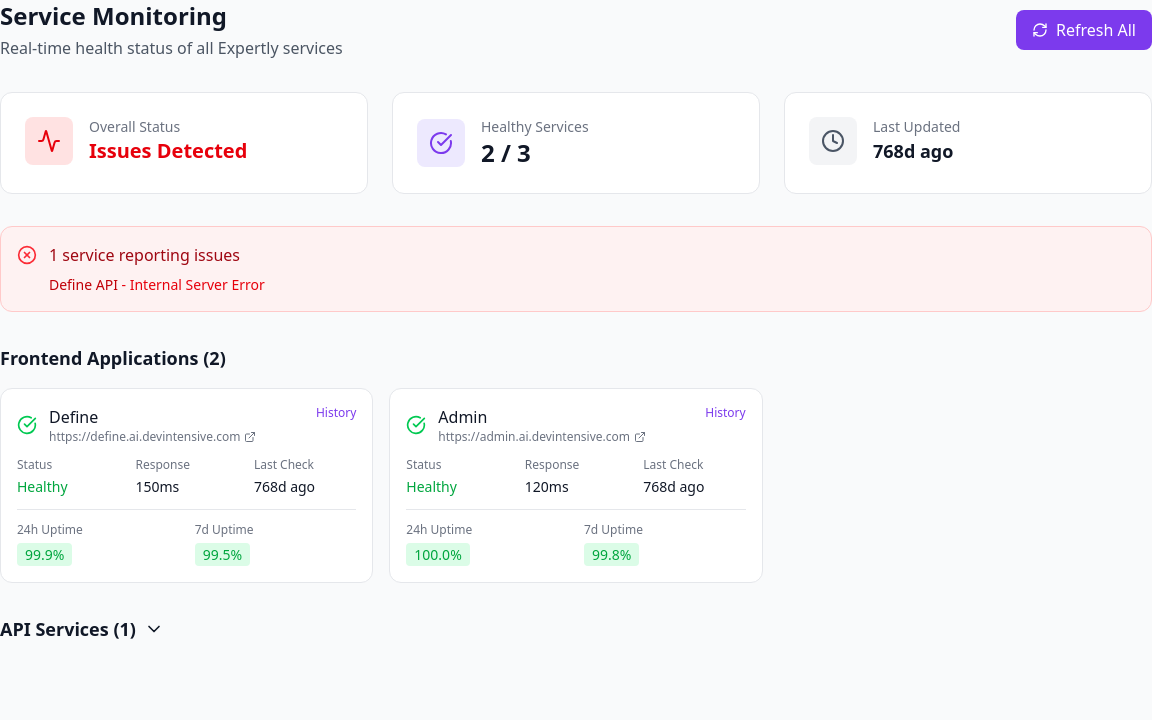
Scenario: Monitoring › shows empty history message when no history
This screenshot has width=1152, height=720.
Expected: the heading "Define" is shown, [49,406,98,428]
Click the 1st button "History".
click(336, 413)  # box [316,405,356,421]
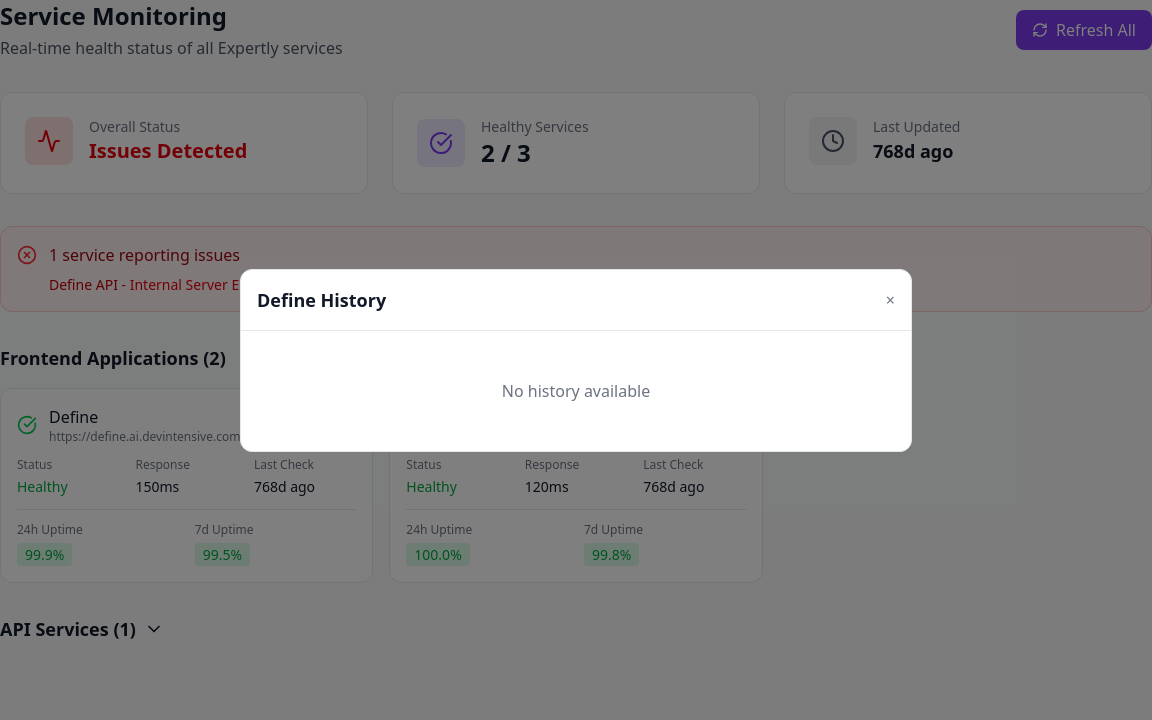
Result: the text "No history available" is shown at [502,380,650,402]
